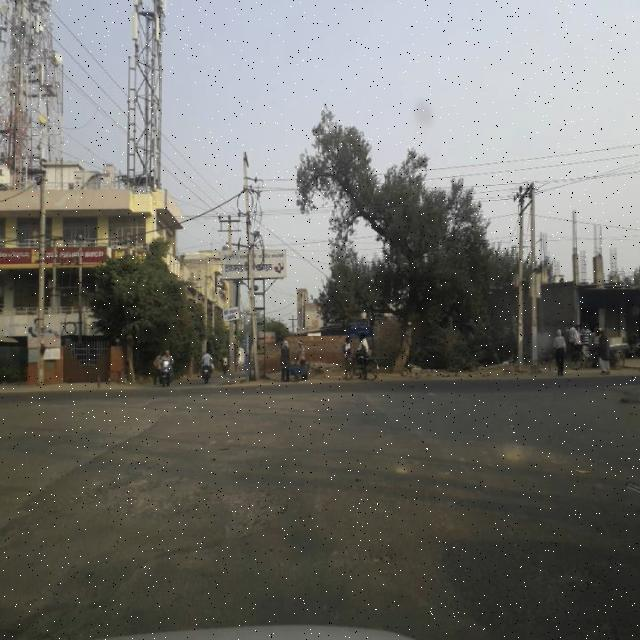D40: (79, 463, 288, 552)
